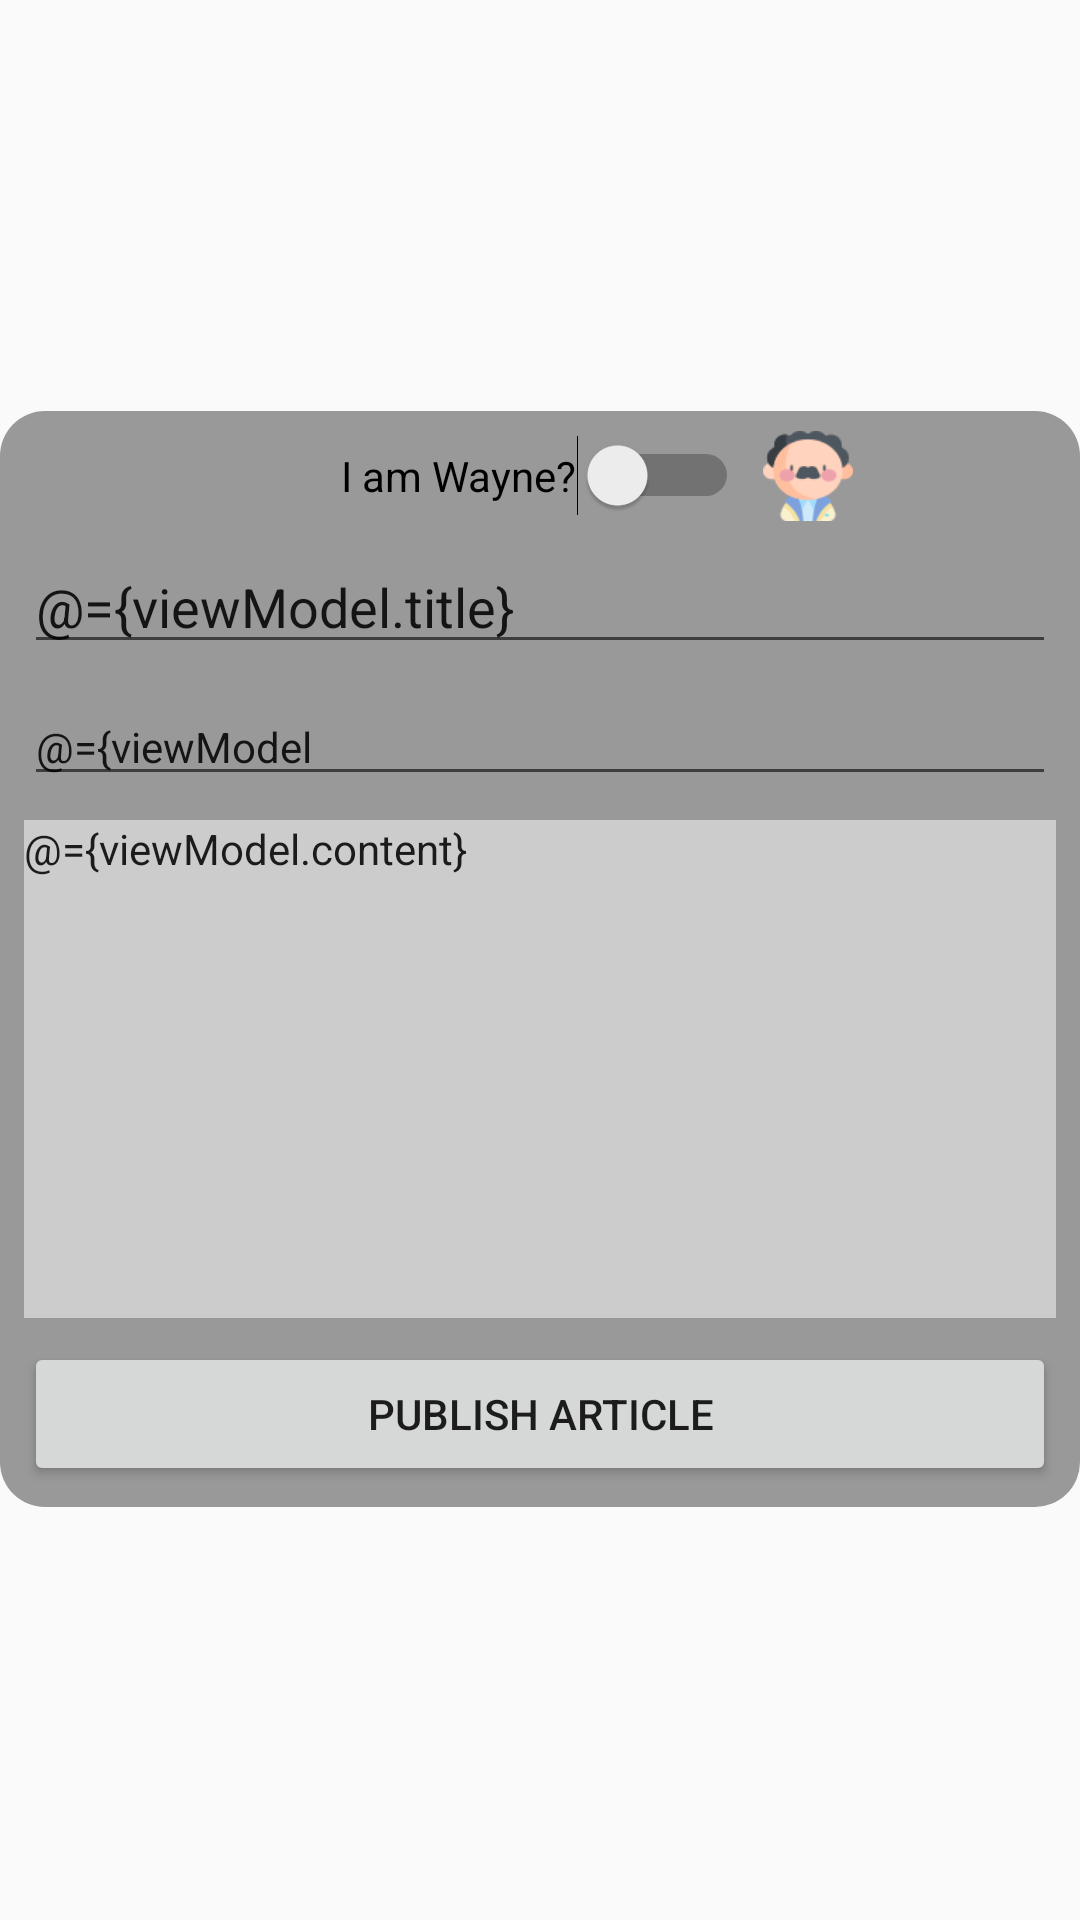

Where icons sit on this 1080 x 1920 app screen, as (x1, y1, x2, y2):
doctor: (763, 431, 853, 521)
